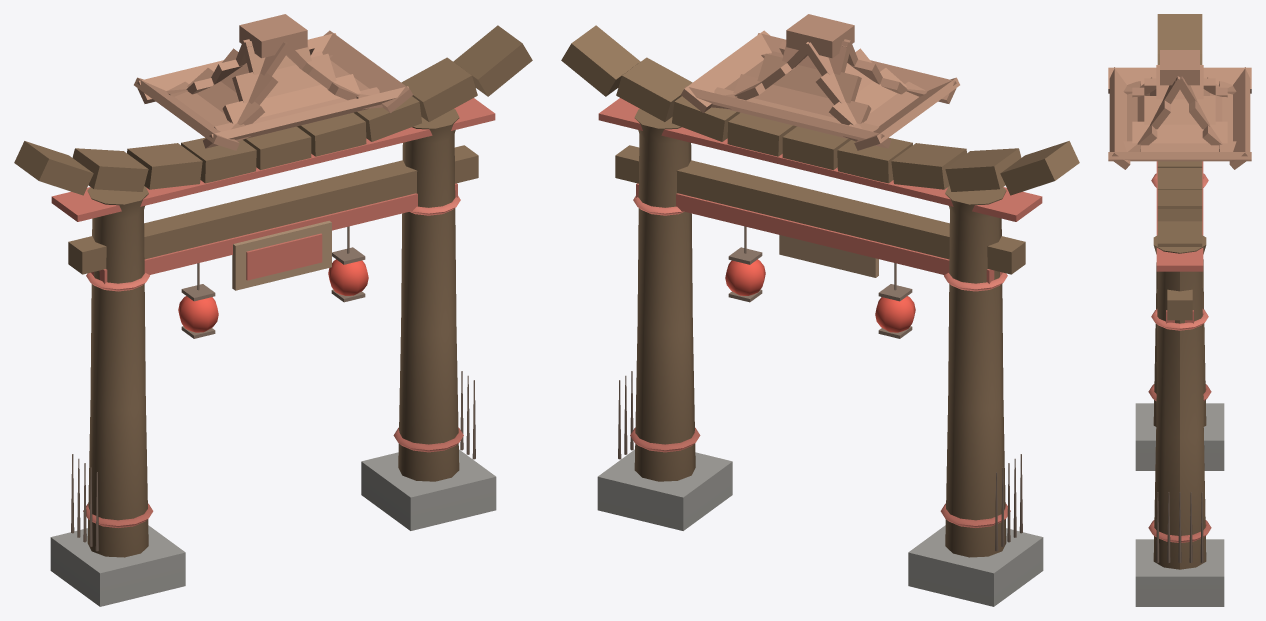
The model's file is tor_kuro.glb.
3 renders of one model, left to right at view 1: azimuth 30°, elevation 25°; view 2: azimuth 150°, elevation 25°; view 3: azimuth 270°, elevation 25°, orthographic. The views are drawn at different scales.
Parts seen in each view (by area): view 1: G_tor_kuro; view 2: G_tor_kuro; view 3: G_tor_kuro.
Part boxes in pixels (left/top/right/bottom): G_tor_kuro: left=14, top=14, right=532, bottom=606; G_tor_kuro: left=561, top=14, right=1079, bottom=606; G_tor_kuro: left=1108, top=14, right=1251, bottom=606.
Bounding box in the file's own units: 9.23 × 9.15 × 2.58.
